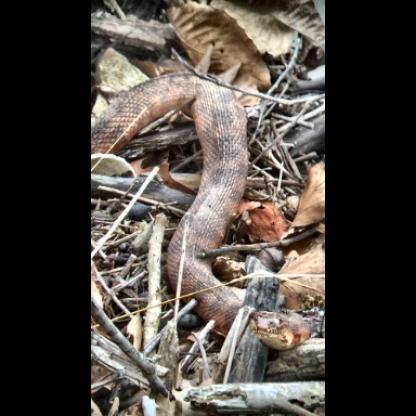Snake: (98, 72, 306, 355)
